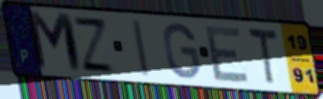E: (204, 25, 252, 84)
G: (162, 22, 202, 82)
I: (130, 18, 152, 79)
M: (25, 9, 86, 76)
T: (245, 25, 280, 88)
Z: (70, 14, 118, 76)
